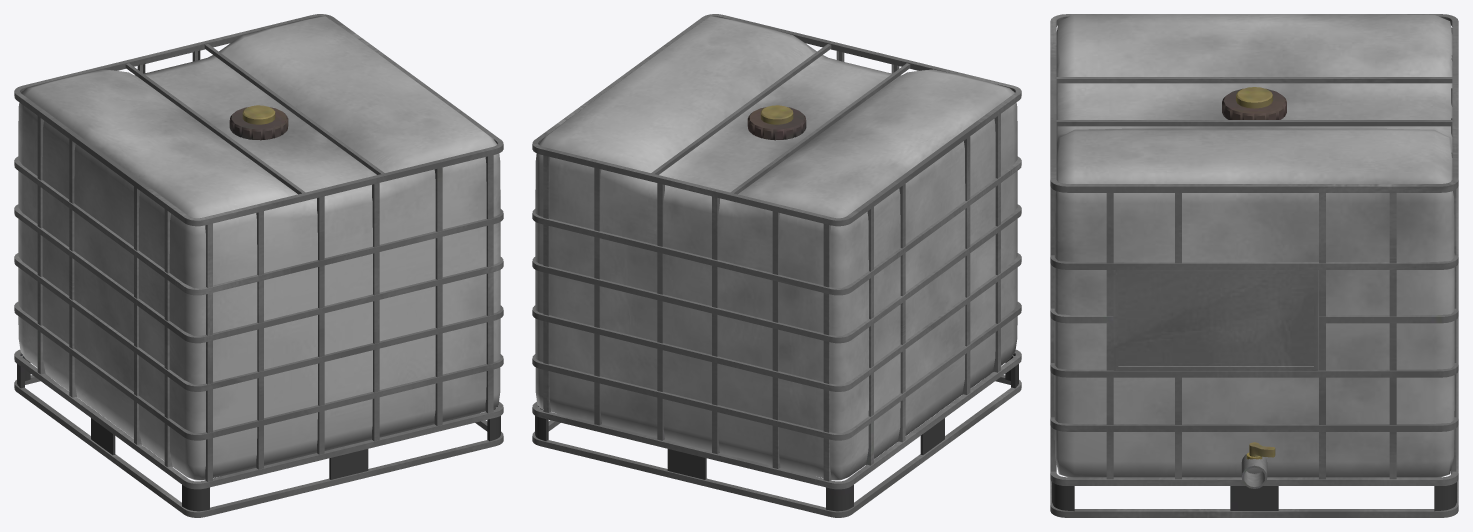
File: watertank_LOD.fbx
3 views of the same model, side by side, from view 1: azimuth 30°, elevation 25°; view 2: azimuth 150°, elevation 25°; view 3: azimuth 270°, elevation 25° (orthographic). The views are drawn at different scales.
Visible parts, largest first — view 1: LOD0; view 2: LOD0; view 3: LOD0.
Boxes of the visible parts, x1=… form: LOD0: x1=14, y1=14, x2=503, y2=517; LOD0: x1=532, y1=14, x2=1021, y2=517; LOD0: x1=1050, y1=14, x2=1458, y2=517.
Size of what is drawn, in the model's own units: 219 by 187 by 204.
1 material, 1 textured.
